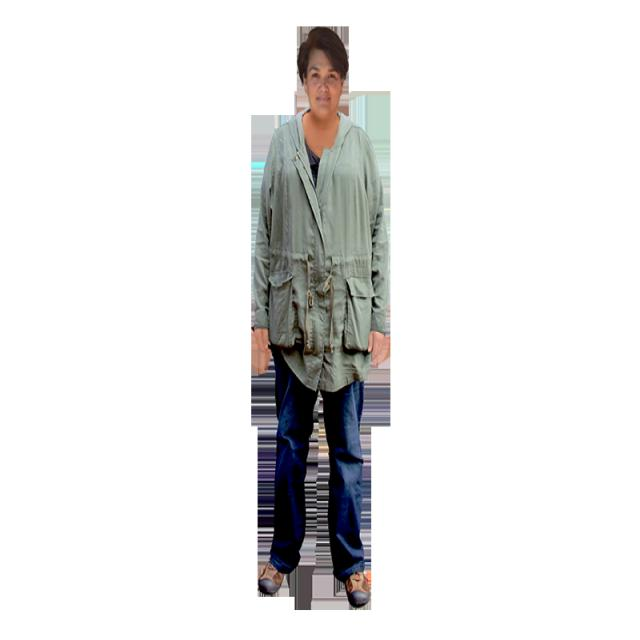jovem: (240, 30, 389, 608)
